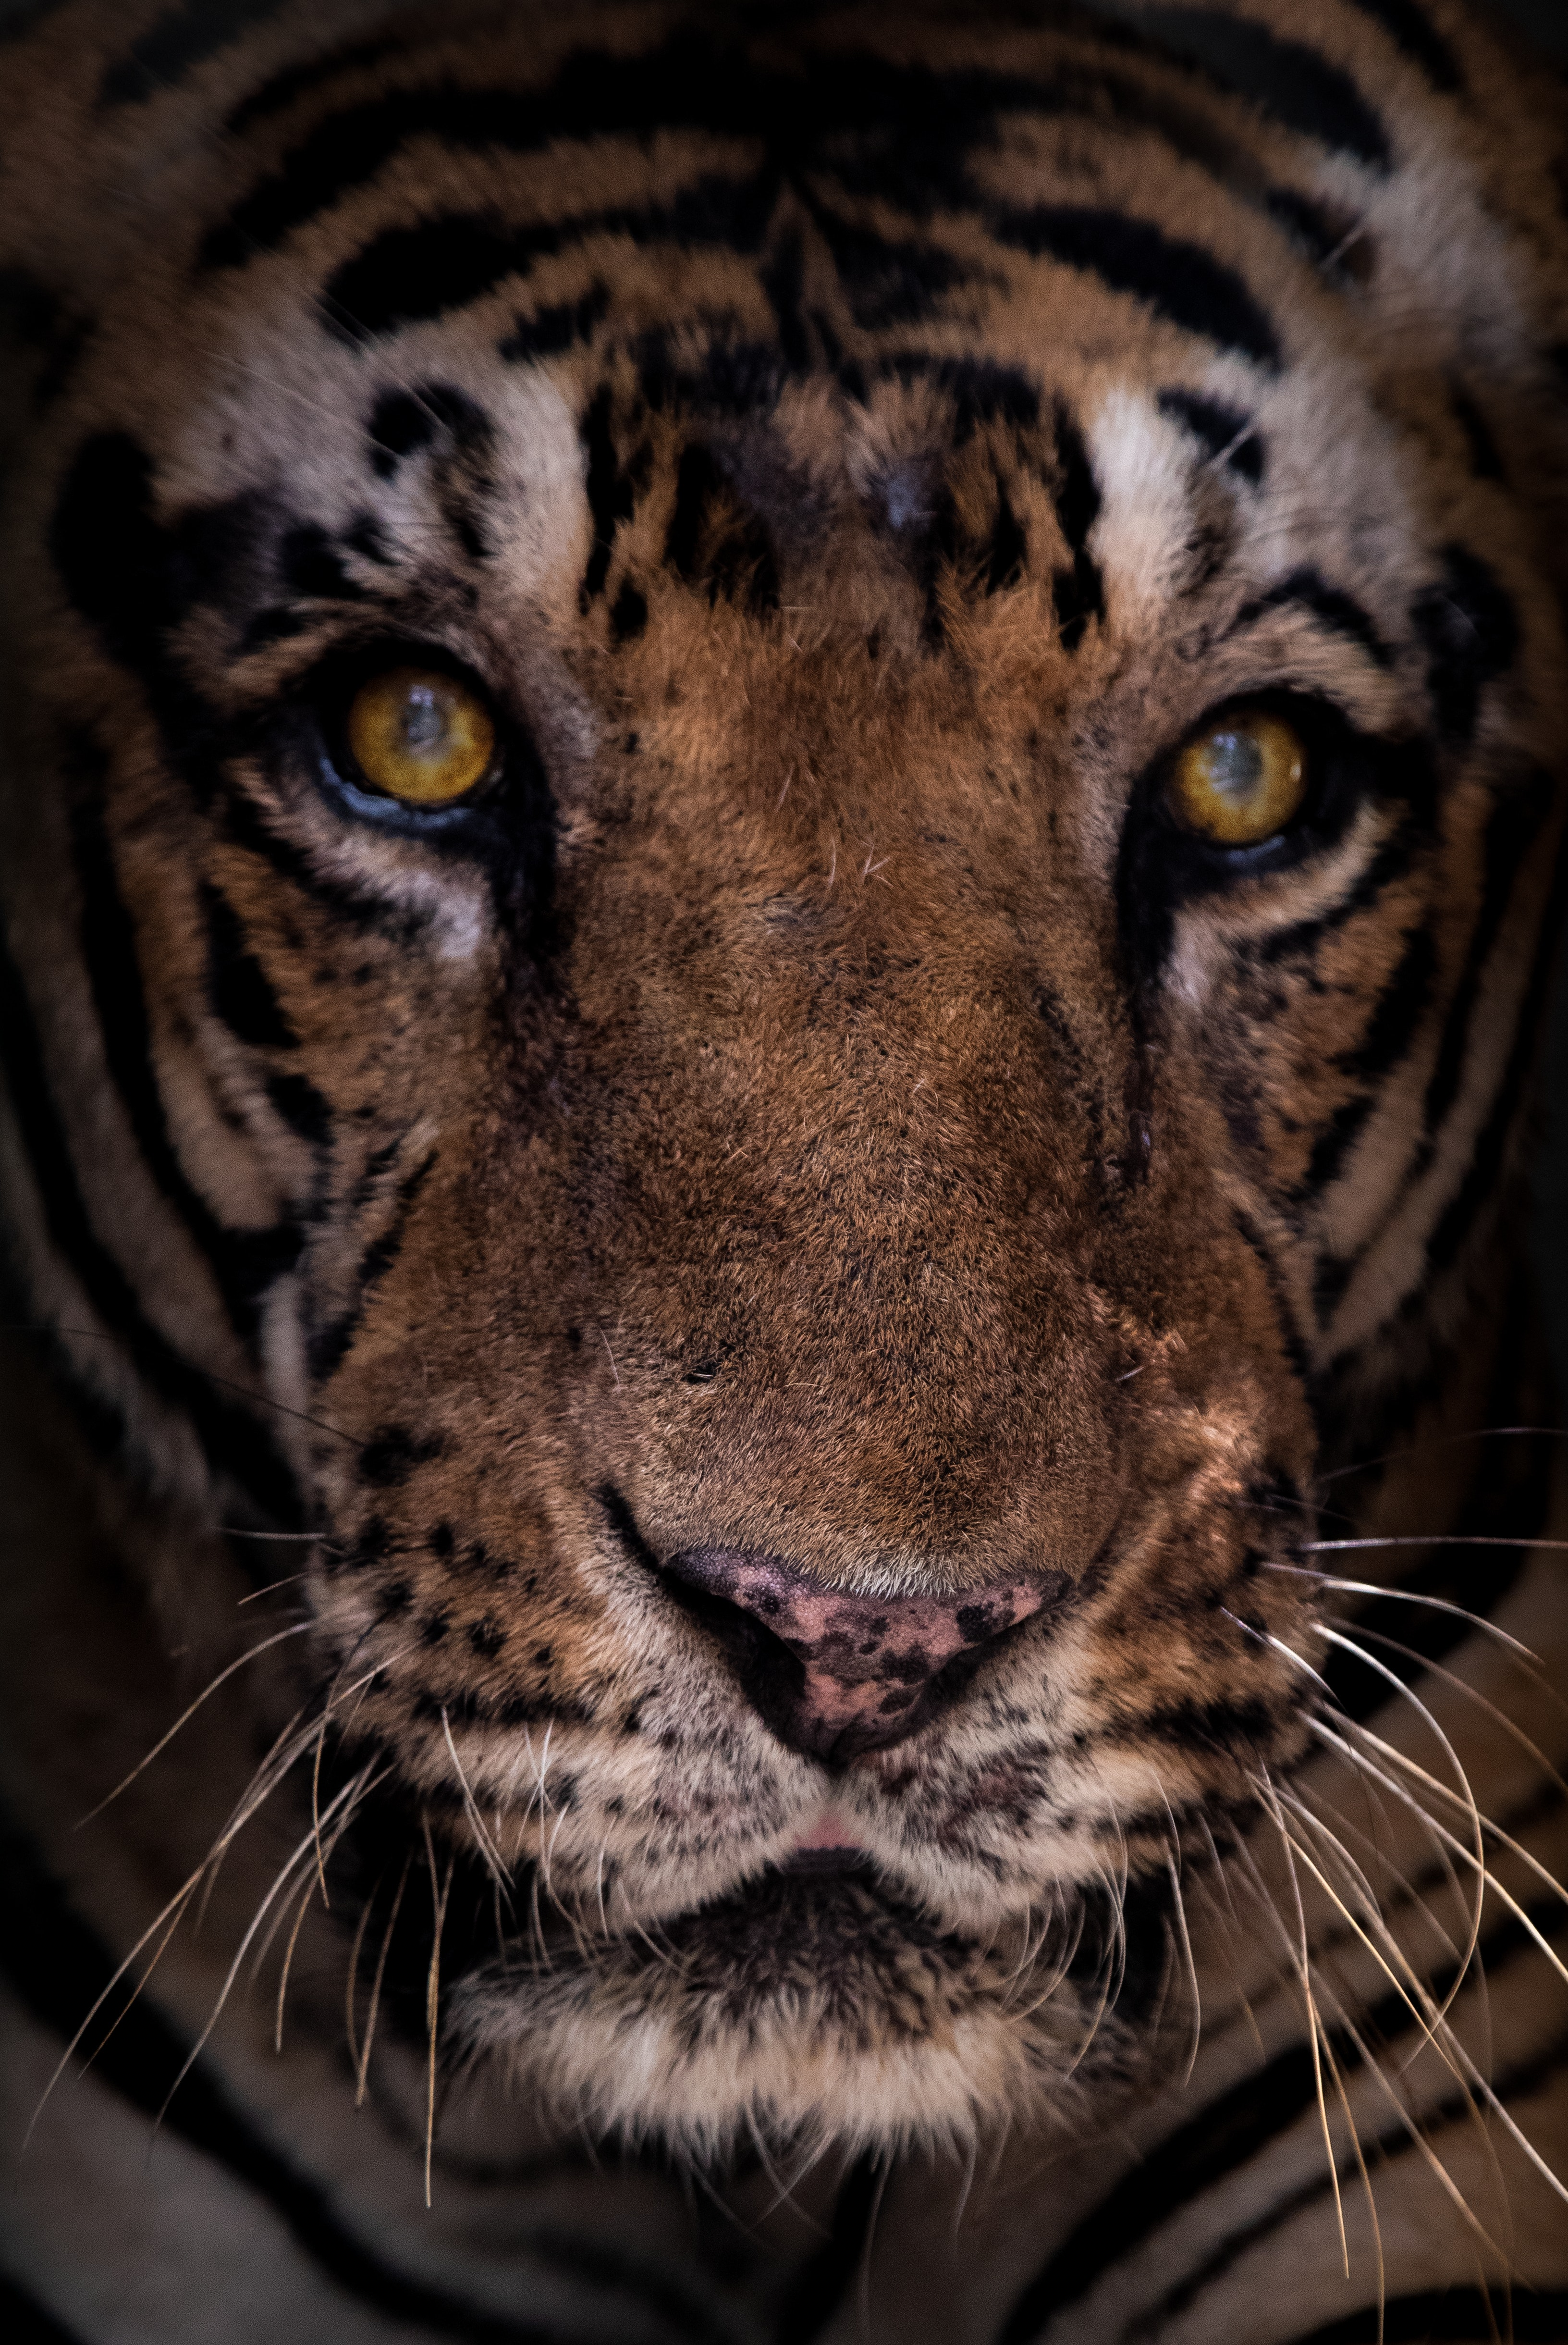tiger: (2, 24, 1563, 2296)
